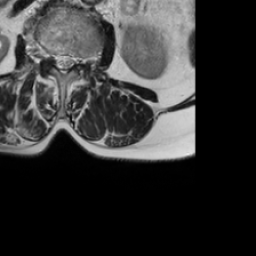CCS_normal: (60, 47, 66, 79)
LFS_normal: (75, 51, 83, 72)
LLS_normal: (66, 51, 74, 74)
RFS_stenosis: (45, 46, 53, 66)
RLS_normal: (53, 48, 60, 73)
